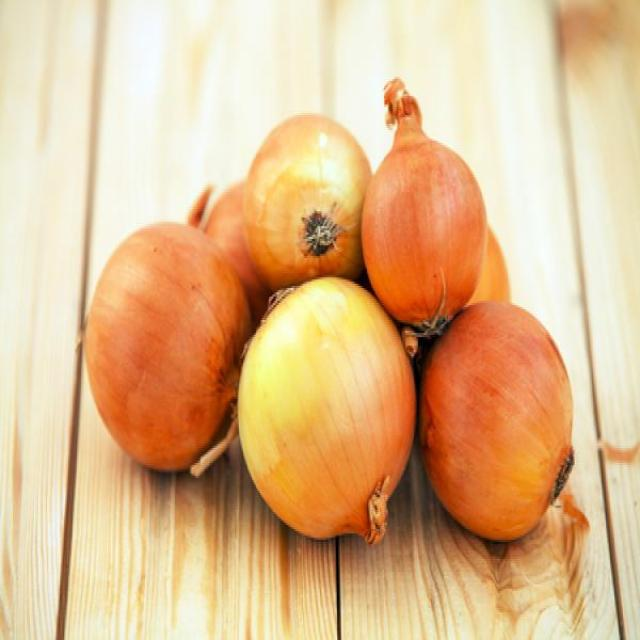Onion: (83, 197, 271, 477), (235, 276, 420, 546), (361, 79, 503, 378), (420, 302, 574, 544), (238, 114, 371, 298)
